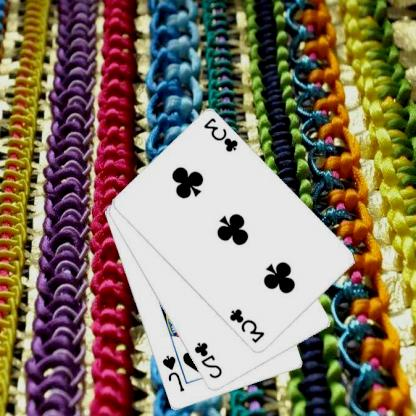2C: (193, 340, 225, 380)
3C: (228, 306, 268, 345), (202, 115, 242, 154)
JS: (161, 353, 188, 393)
